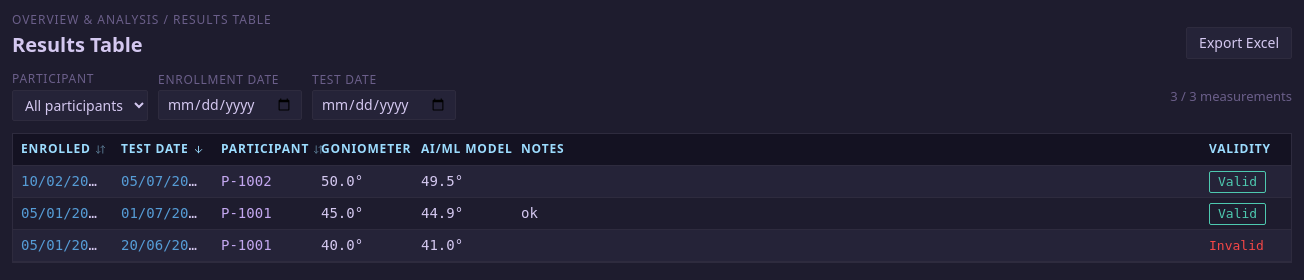
ResultsDisplay › filters by test date
The width and height of the screenshot is (1304, 280).
Type "2026-07-01" into the date field named "filter by test date".
click(384, 105); type("2026-07-01")  # box 312,90 -> 456,120
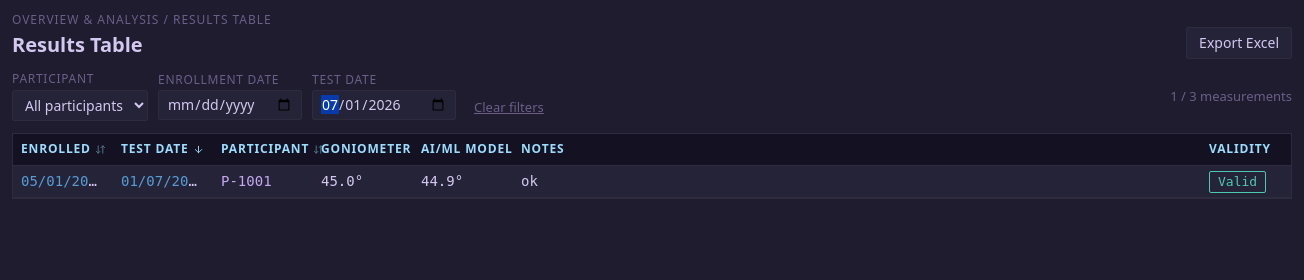
Check: the text "1 / 3 measurements" is shown, box 1170,87 -> 1292,105
